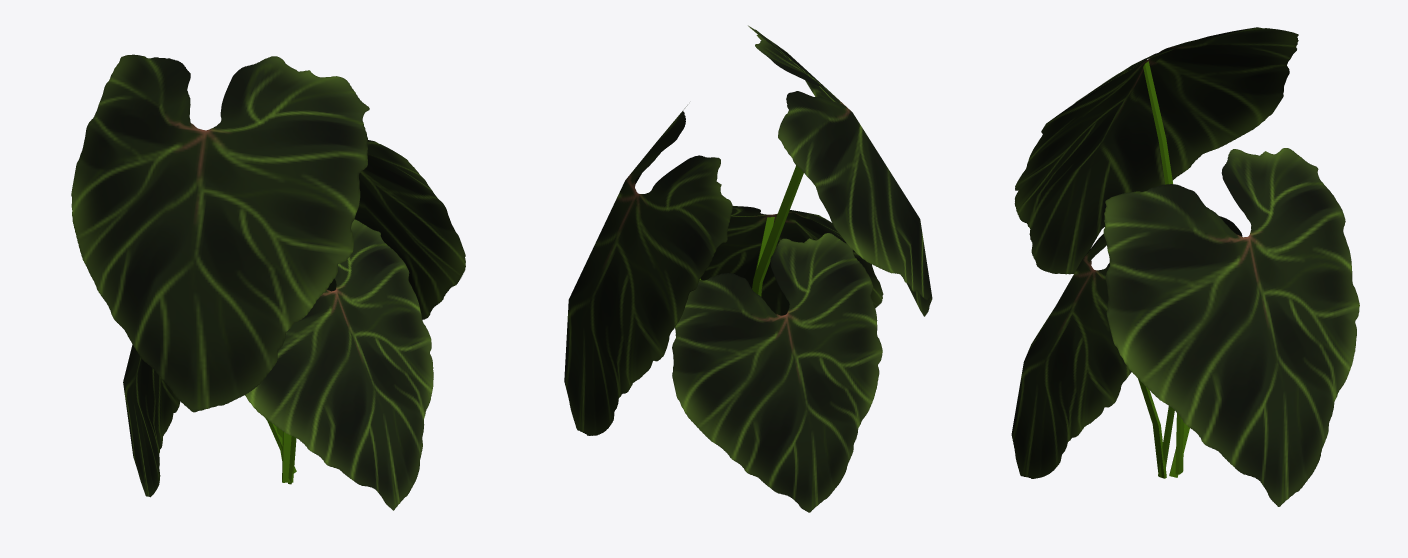
Rendered from Monstera_004.fbx.
3 renders of one model, left to right at view 1: azimuth 30°, elevation 25°; view 2: azimuth 150°, elevation 25°; view 3: azimuth 270°, elevation 25°, orthographic. The views are drawn at different scales.
Parts seen in each view (by area): view 1: Monstera_004; view 2: Monstera_004; view 3: Monstera_004.
Part boxes in pixels (box(x1,y1,x2,y2)): Monstera_004: box(71, 54, 465, 510); Monstera_004: box(564, 25, 932, 512); Monstera_004: box(1011, 27, 1359, 506).
Size of the model in its own units: 7.12 by 7.98 by 6.58.
Materials: 2 (1 with a texture image).
